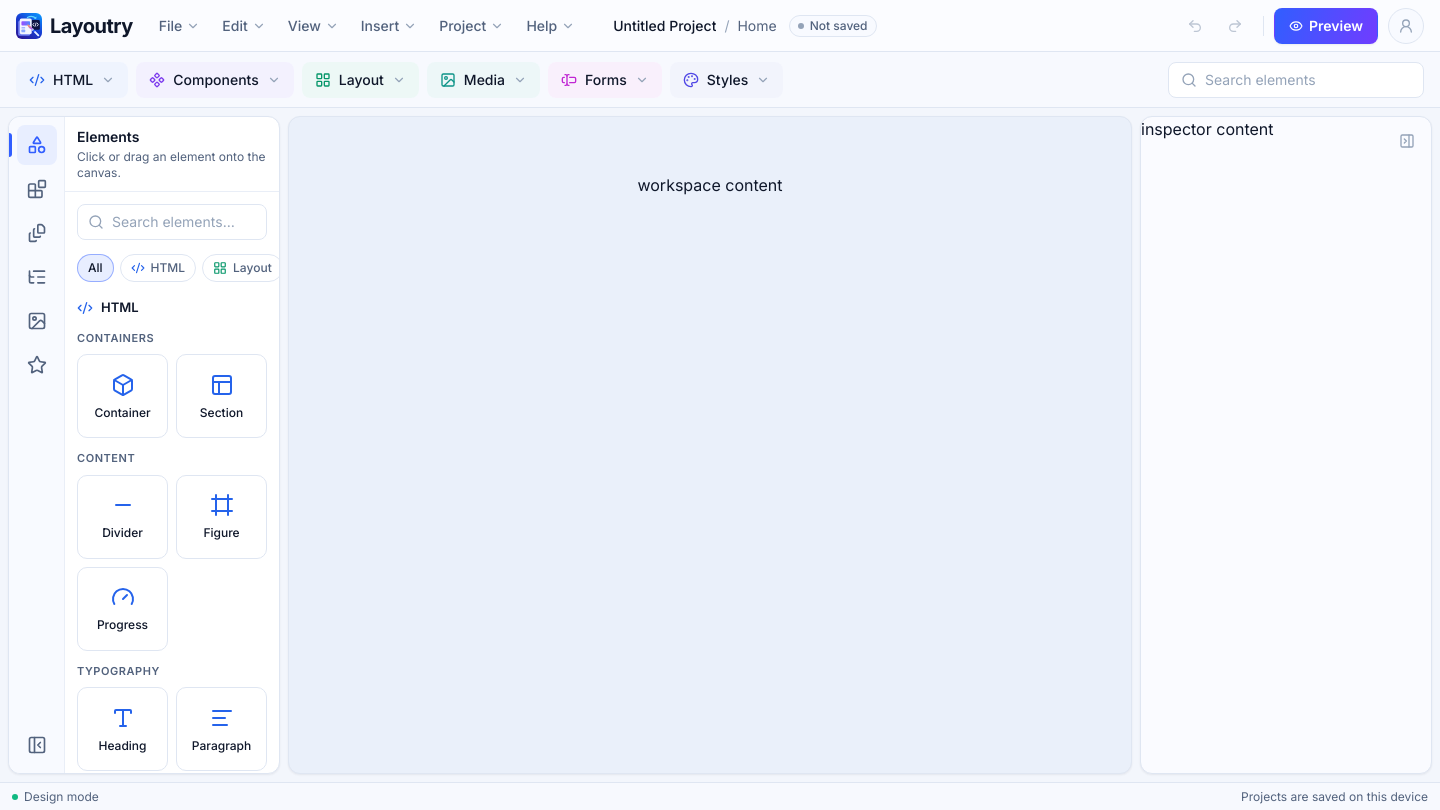
Test case: AppShell › hides the Resource Panel via the View menu and gives the workspace its space back
This screenshot has width=1440, height=810.
Click the menu item "View" at (313, 26), box [278, 10, 349, 42]
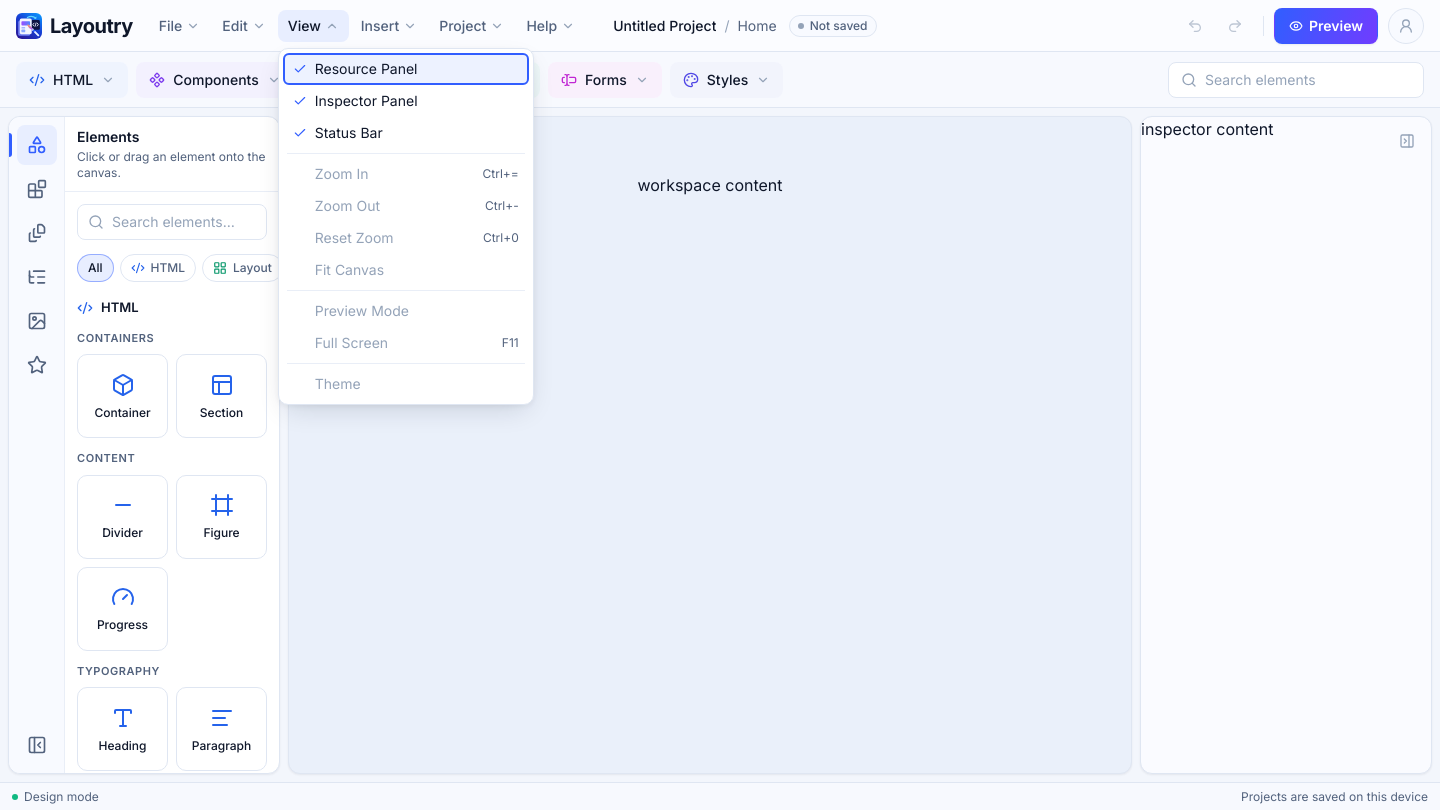
Click the menu item "Resource Panel" at (406, 68), box [283, 52, 529, 84]
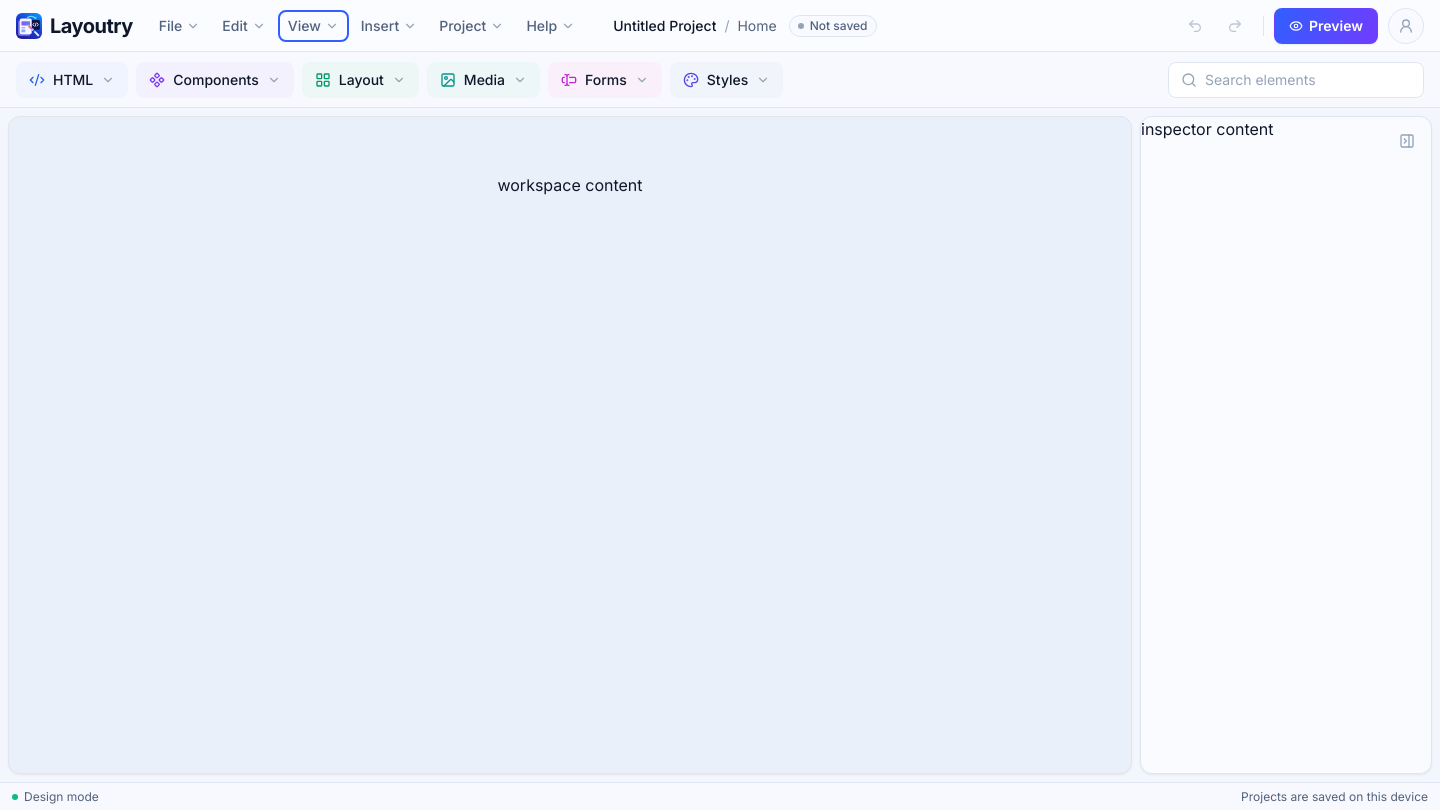
Result: the menu item "Resource Panel" is gone
